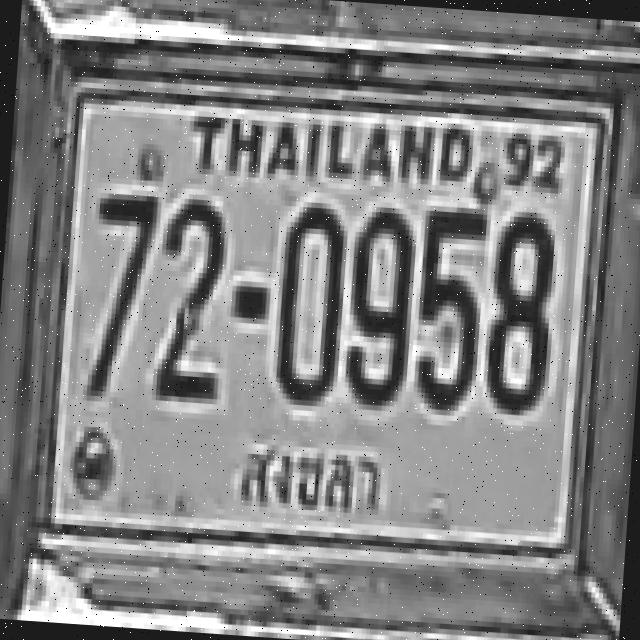0: (270, 195, 346, 402)
2: (152, 192, 228, 399)
5: (408, 202, 484, 408)
7: (82, 187, 154, 399)
8: (481, 204, 553, 411)
9: (340, 202, 414, 404)
Songkhla: (224, 418, 388, 524)
